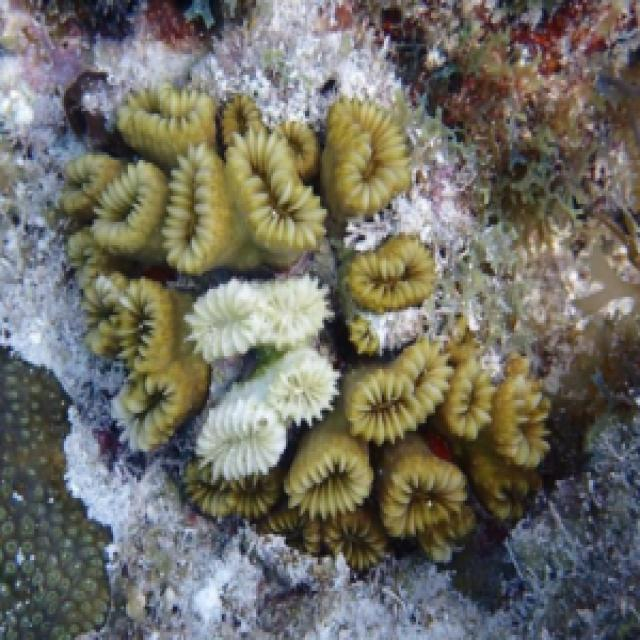Coral: (55, 77, 551, 578)
